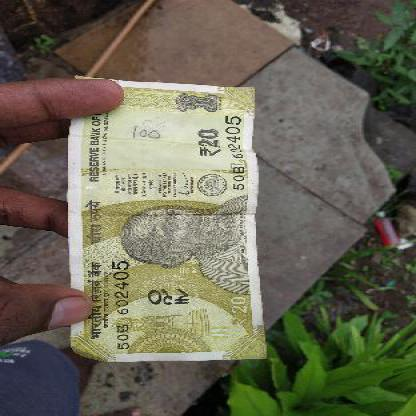New20Front: (69, 76, 263, 358)
